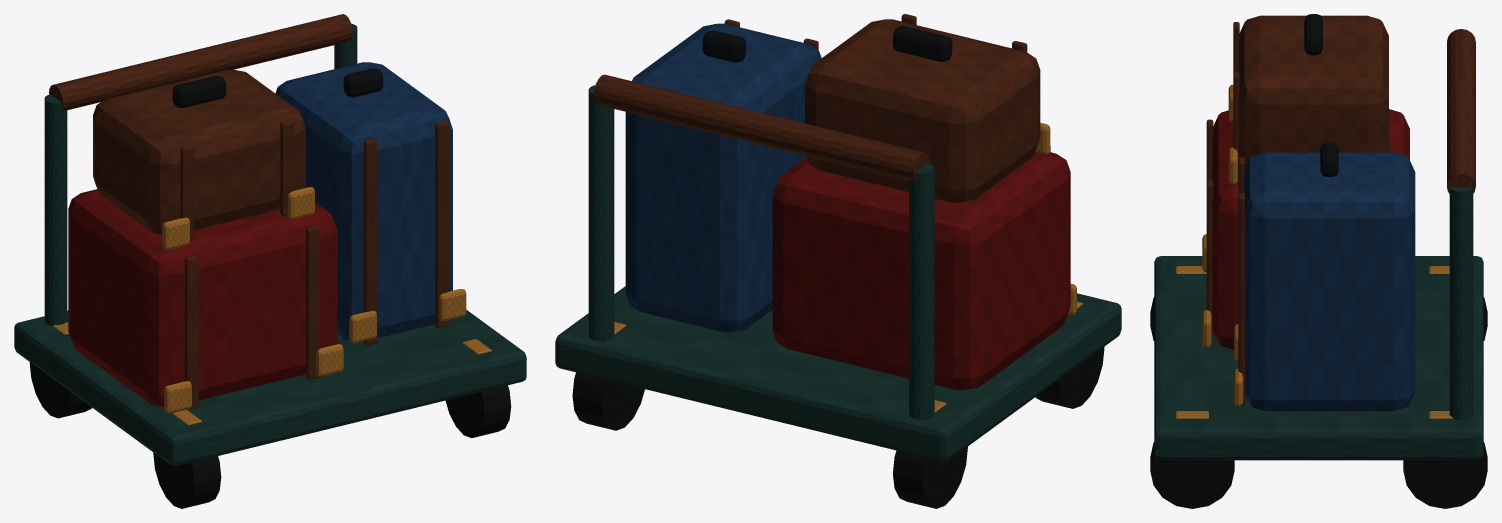
File: luggage-cart-v1-HiN_nQyS.glb
The picture shows the model from 3 angles, left to right: view 1: azimuth 30°, elevation 25°; view 2: azimuth 150°, elevation 25°; view 3: azimuth 270°, elevation 25°; orthographic projection. The views are drawn at different scales.
Parts seen in each view (by area): view 1: Push handle, Suitcase shell, Steel luggage platform, Suitcase shell.001, Caster wheel, Caster fork; view 2: Suitcase shell, Steel luggage platform, Push handle, Suitcase shell.001, Caster wheel, Caster fork; view 3: Suitcase shell.001, Steel luggage platform, Push handle, Caster wheel, Suitcase shell, Caster fork.
Part boxes in pixels (left/top/right/bottom): Push handle: left=49, top=14, right=448, bottom=408; Suitcase shell: left=68, top=189, right=337, bottom=406; Steel luggage platform: left=14, top=23, right=526, bottom=465; Suitcase shell.001: left=275, top=62, right=452, bottom=341; Caster wheel: left=29, top=68, right=511, bottom=508; Caster fork: left=53, top=187, right=491, bottom=424; Suitcase shell: left=772, top=152, right=1070, bottom=390; Steel luggage platform: left=555, top=85, right=1121, bottom=461; Push handle: left=593, top=14, right=1050, bottom=202; Suitcase shell.001: left=625, top=23, right=821, bottom=332; Caster wheel: left=572, top=26, right=1104, bottom=508; Caster fork: left=614, top=123, right=1082, bottom=412; Suitcase shell.001: left=1244, top=152, right=1415, bottom=411; Steel luggage platform: left=1154, top=187, right=1483, bottom=460; Push handle: left=1206, top=15, right=1475, bottom=406; Caster wheel: left=1150, top=14, right=1487, bottom=508; Suitcase shell: left=1212, top=109, right=1409, bottom=349; Caster fork: left=1176, top=84, right=1452, bottom=418.
Bounding box in the file's own units: 1.6 × 1.54 × 1.28.
Materials: 6 (6 with a texture image).
